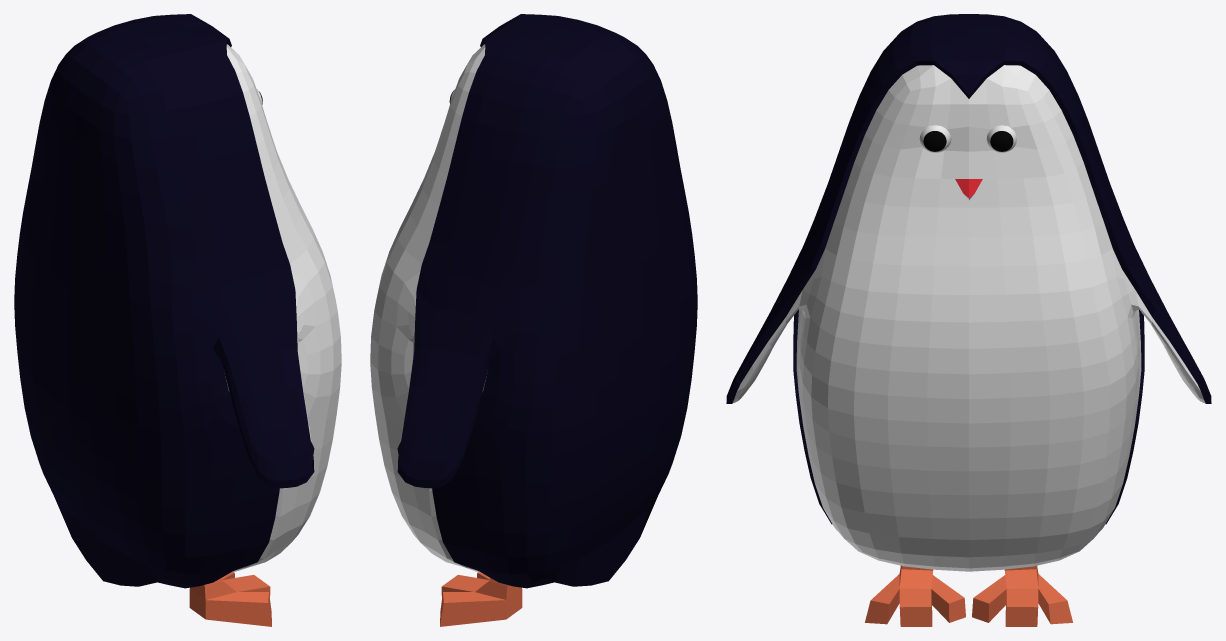
The model's file is penguinex.glb.
3 views of the same model, side by side, from view 1: azimuth 30°, elevation 25°; view 2: azimuth 150°, elevation 25°; view 3: azimuth 270°, elevation 25° (orthographic).
Parts seen in each view (by area): view 1: penguin; view 2: penguin; view 3: penguin, eys.r, eys.l.
Part boxes in pixels (x1,y1,x2,y2): penguin: [14, 14, 341, 626]; penguin: [370, 14, 697, 626]; penguin: [726, 14, 1211, 626]; eys.r: [919, 125, 951, 152]; eys.l: [986, 125, 1016, 152].
Bounding box in the file's own units: 1.61 × 3.87 × 3.03.
